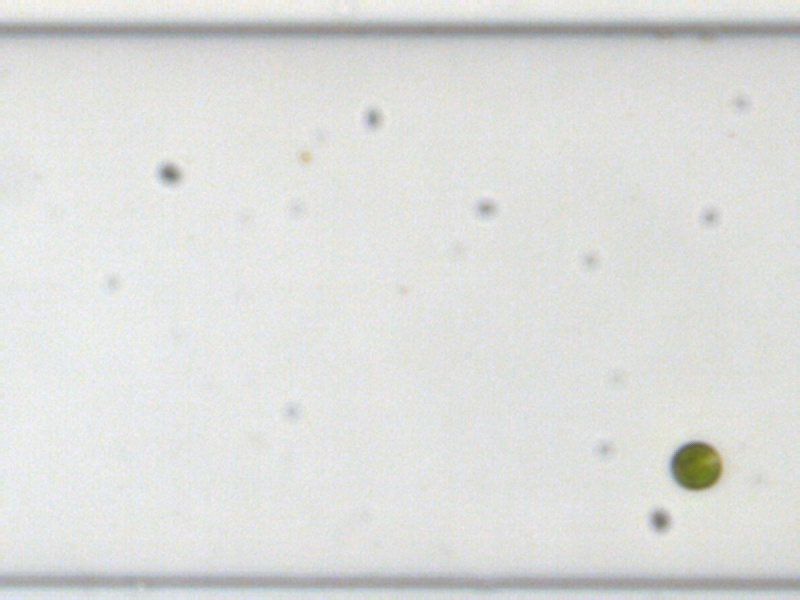Chlorella: (297, 149, 314, 164)
Platymonas: (670, 439, 722, 490)
